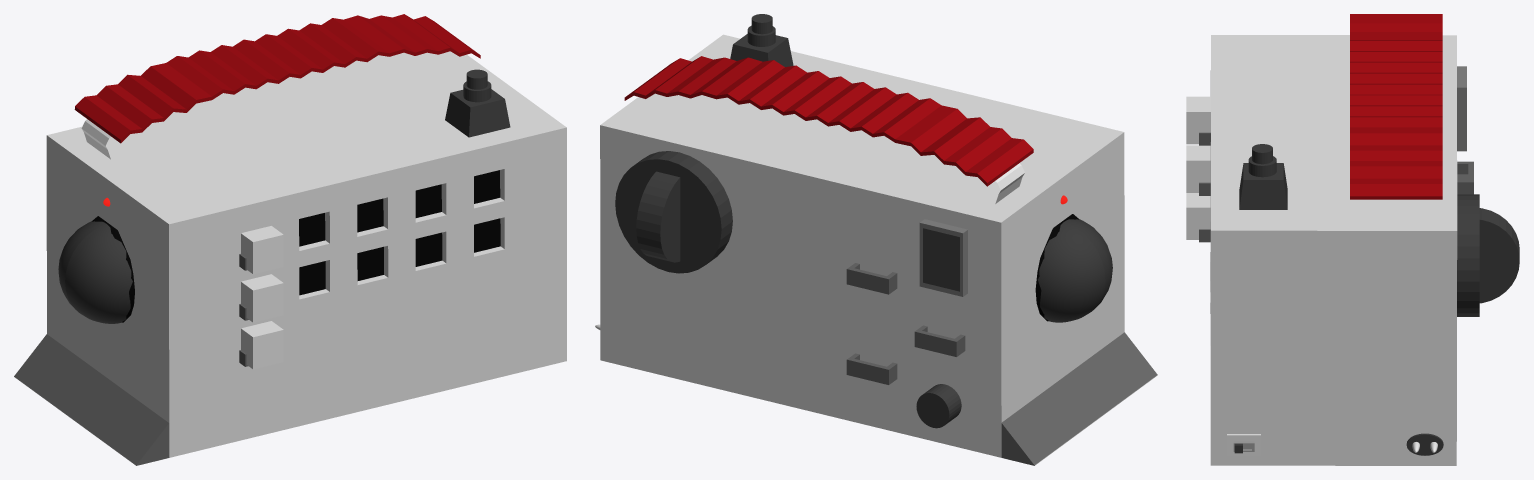
Rendered from camera2.glb.
3 views of the same model, side by side, from view 1: azimuth 30°, elevation 25°; view 2: azimuth 150°, elevation 25°; view 3: azimuth 270°, elevation 25° (orthographic).
Parts seen in each view (by area): view 1: Cube, Plane.001, Cube.007, Plane, Sphere.001, Cube.015, Cube.002, Cube.003, Cube.001, Sphere, Cylinder.006; view 2: Cube, Plane.001, Cylinder.005, Cube.007, Sphere, Cube.014, Cylinder.003, Cube.015, Cube.012, Cube.013, Cube.011, Sphere.001 (+1 smaller); view 3: Cube, Plane.001, Cylinder.005, Cube.015, Cube.001, Cube.002, Cube.003, Cube.014, Cube.011, Cylinder.002, Cube.008, Cylinder.007 (+1 smaller).
Boxes of the visible parts, x1,y1,x2,y2 form: Cube: (14,51,566,465); Plane.001: (74,14,480,143); Cube.007: (14,334,169,465); Plane: (299,170,500,295); Sphere.001: (65,224,132,323); Cube.015: (445,89,510,137); Cube.002: (241,274,283,322); Cube.003: (241,321,283,369); Cube.001: (241,226,283,274); Sphere: (58,221,106,309); Cylinder.006: (81,119,110,159); Cube: (600,34,1157,465); Plane.001: (624,56,1033,186); Cylinder.005: (615,151,732,273); Cube.007: (1001,332,1157,465); Sphere: (1037,222,1105,322); Cube.014: (919,219,967,296); Cylinder.003: (916,384,961,428); Cube.015: (730,34,793,66); Cube.012: (914,325,965,356); Cube.013: (846,353,897,384); Cube.011: (846,263,897,294); Sphere.001: (1064,219,1112,309); Cube: (1210,35,1457,465); Plane.001: (1350,14,1442,199); Cylinder.005: (1457,194,1519,316); Cube.015: (1239,163,1287,209); Cube.001: (1186,96,1210,144); Cube.002: (1186,145,1210,192); Cube.003: (1186,193,1210,239); Cube.014: (1457,66,1466,151); Cube.011: (1457,161,1473,194); Cylinder.002: (1406,433,1443,455); Cube.008: (1227,434,1260,455); Cylinder.007: (1248,156,1276,177).
Bounding box in the file's own units: 4.31 × 2.6 × 2.71.
